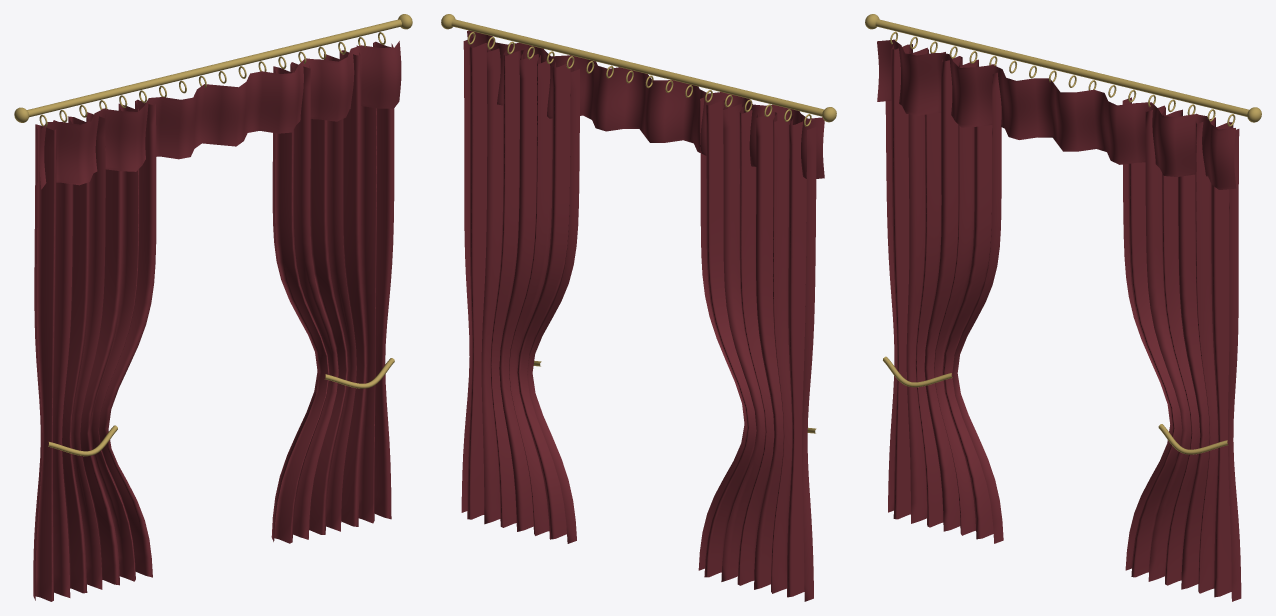
File: curtains.glb
3 renders of one model, left to right at view 1: azimuth 30°, elevation 25°; view 2: azimuth 150°, elevation 25°; view 3: azimuth 330°, elevation 25°, orthographic.
Parts seen in each view (by area): view 1: curtains; view 2: curtains; view 3: curtains.
Boxes of the visible parts, left/top/right/bottom form: curtains: left=14, top=14, right=412, bottom=601; curtains: left=441, top=14, right=836, bottom=601; curtains: left=865, top=14, right=1261, bottom=601.
Bounding box in the file's own units: 1.5 × 1.8 × 0.16.
